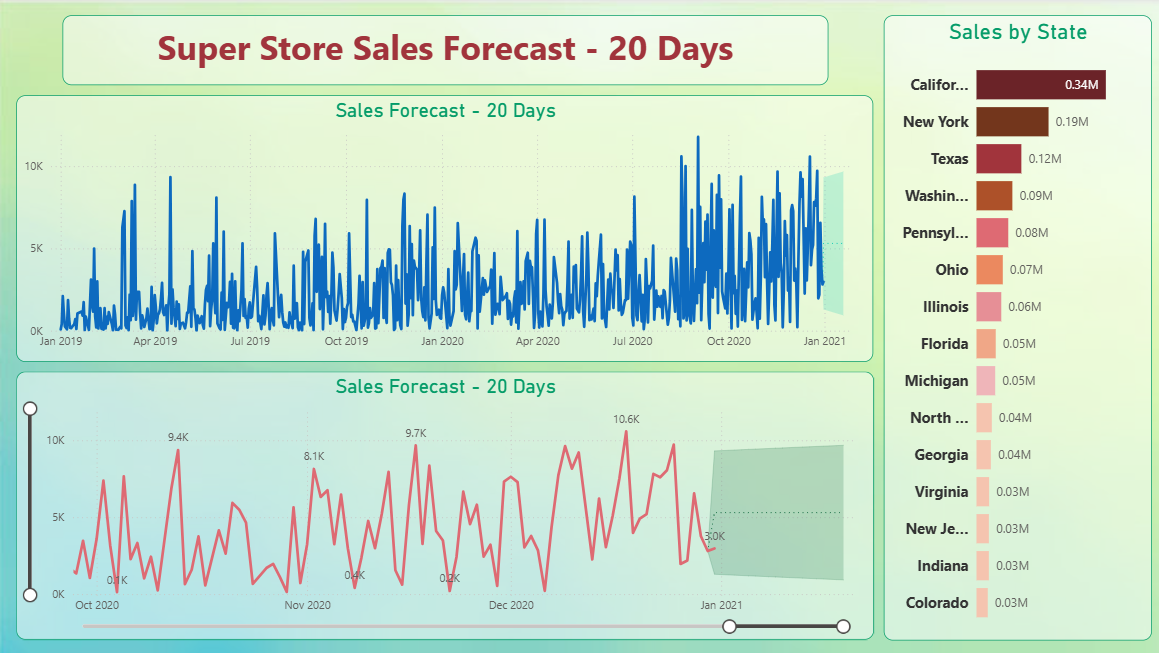

What the dashboard file says about the page in this screenshot:
{"tool":"powerbi","page":{"name":"Page 2","canvas":[1280,720],"ordinal":1},"visuals":[{"type":"lineChart","title":" Sales Forecast - 20 Days","fields":{"Y":["Sum(SuperStore_Sales_Dataset.Sales)"],"Category":["SuperStore_Sales_Dataset.Order Date"]},"box":[23.5,105.9,941.2,292.6],"z":0},{"type":"lineChart","title":" Sales Forecast - 20 Days","fields":{"Y":["Sum(SuperStore_Sales_Dataset.Sales)"],"Category":["SuperStore_Sales_Dataset.Order Date"]},"box":[24,409.3,941.3,294.7],"z":1000},{"type":"clusteredBarChart","title":" Sales by State","fields":{"Y":["Sum(SuperStore_Sales_Dataset.Sales)"],"Category":["SuperStore_Sales_Dataset.State"]},"box":[975,17.6,294.1,686.8],"z":2000},{"type":"textbox","box":[73.5,17.6,841.2,76.5],"z":3000}]}

Visuals, with their boxes in screenshot pixels (x1, y1, x2, y2), scaled from the page's 1280x720 canvas onto the 1159x653 screenshot:
" Sales Forecast - 20 Days" lineChart: 21 96 874 361
" Sales Forecast - 20 Days" lineChart: 22 371 874 638
" Sales by State" clusteredBarChart: 883 16 1149 639
textbox: 67 16 828 85
